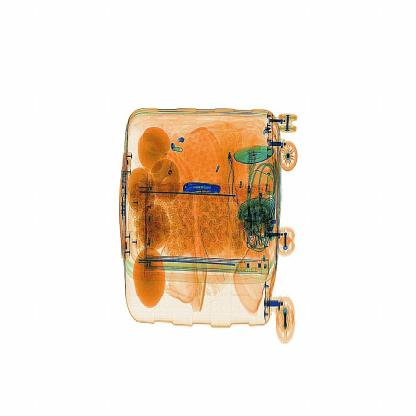knife: (167, 172, 229, 206)
